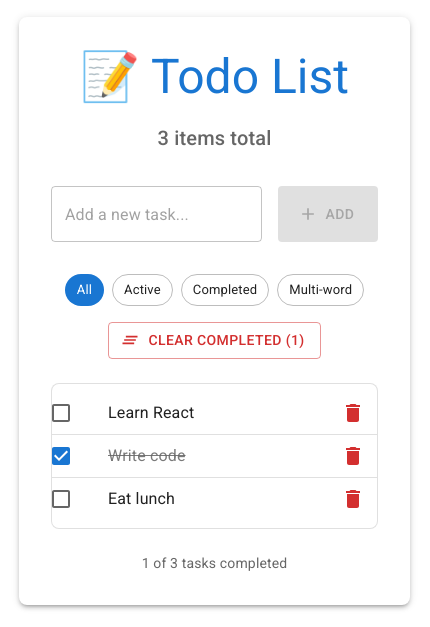
it: ClunkyTodoList Component › Task Interactions › toggles task completion when checkbox is clicked
Click the checkbox next to "Learn React". click: point(61, 413)
box: x1=49 y1=401 x2=73 y2=425
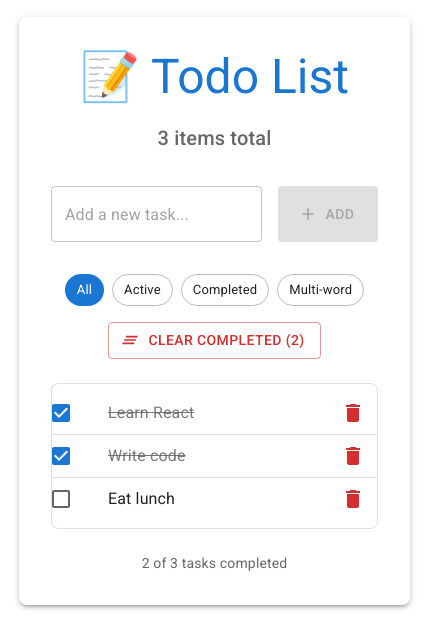
Check: the checkbox next to "Learn React" is checked, box x1=49 y1=401 x2=73 y2=425
Check: the text "2 of 3 tasks completed" is shown, box x1=142 y1=555 x2=287 y2=571
